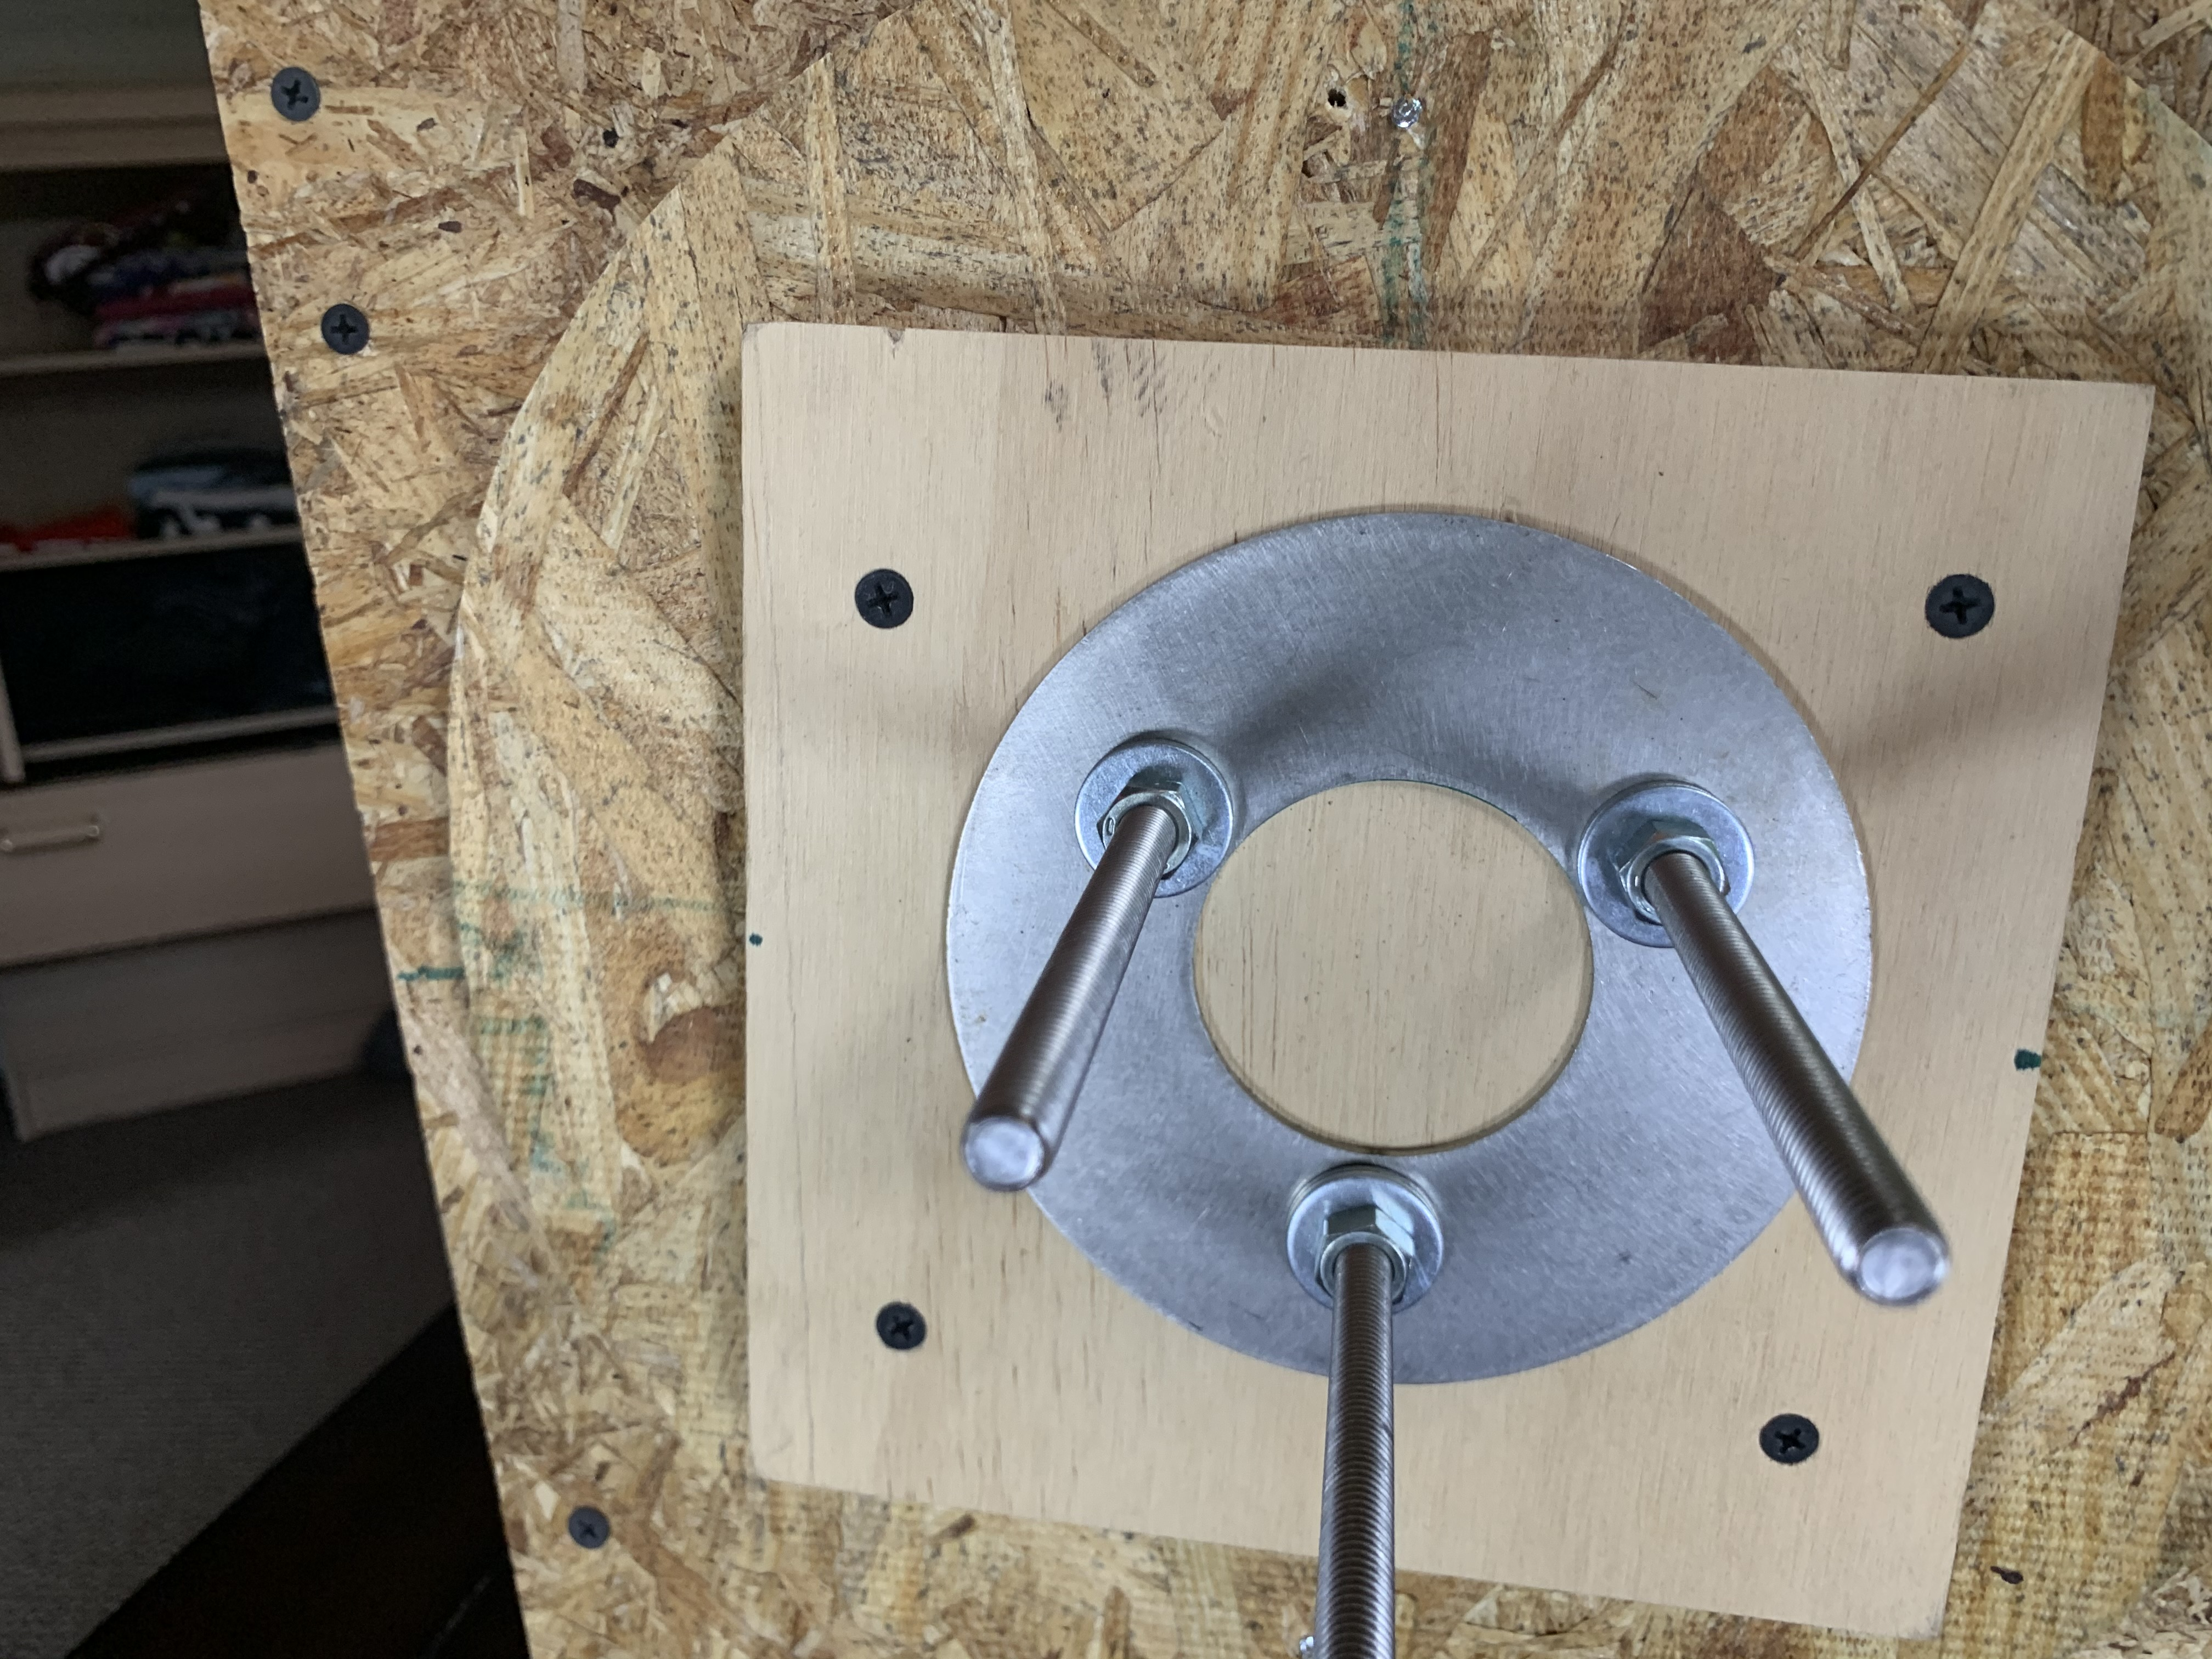bolt: (1573, 775, 1756, 953), (1069, 725, 1247, 901), (1280, 1162, 1453, 1324)
